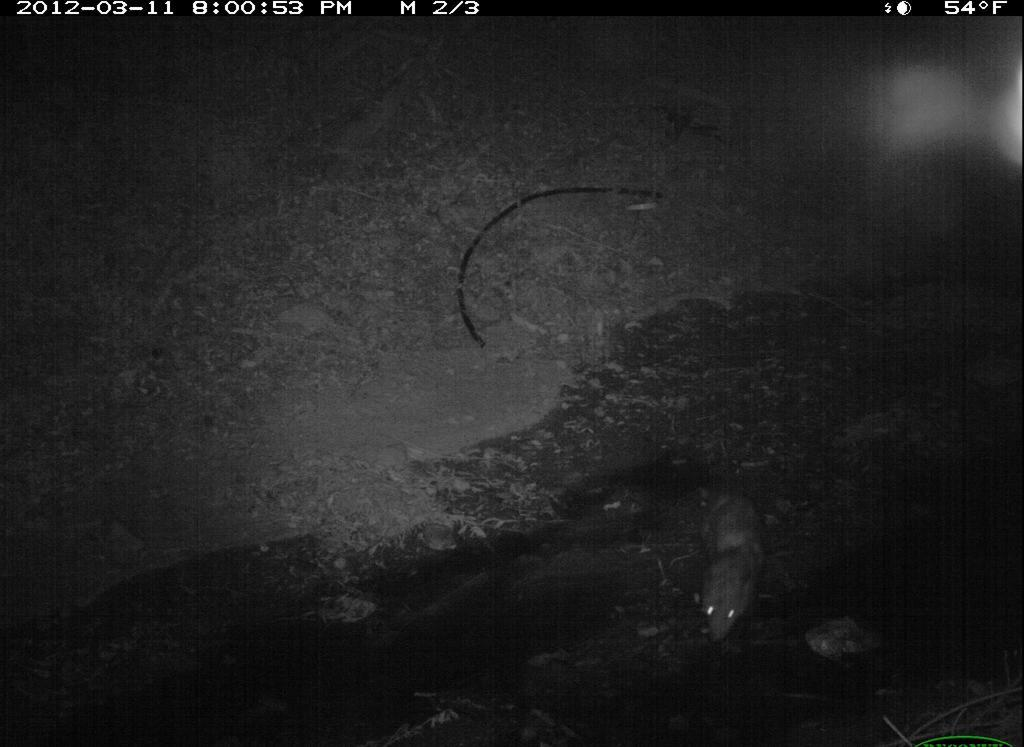opossum: (649, 456, 776, 655)
